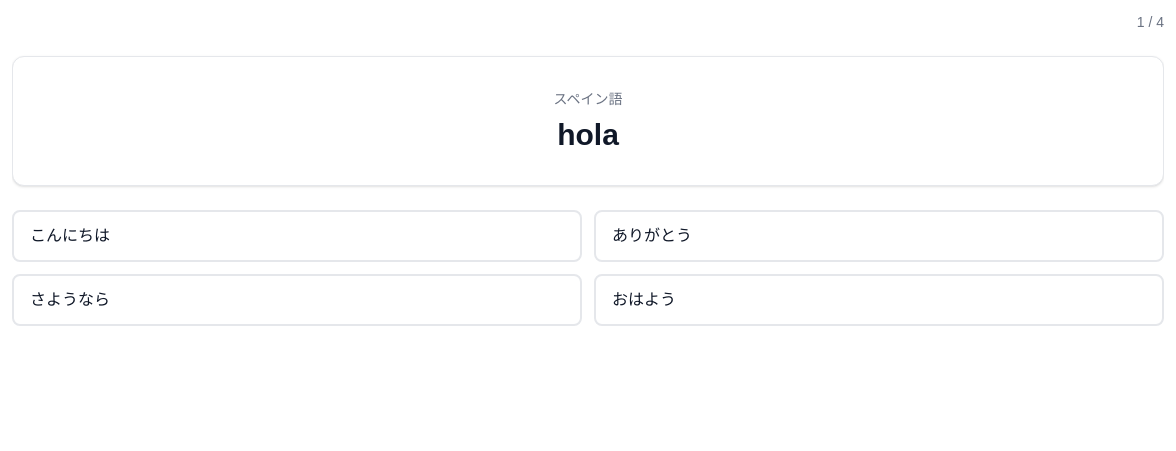
QuizCard › 正解選択で緑のフィードバックが表示されること
// 正解は「こんにちは」
Step 1. Click the button "こんにちは" → (70, 236), box [12,210,582,262]
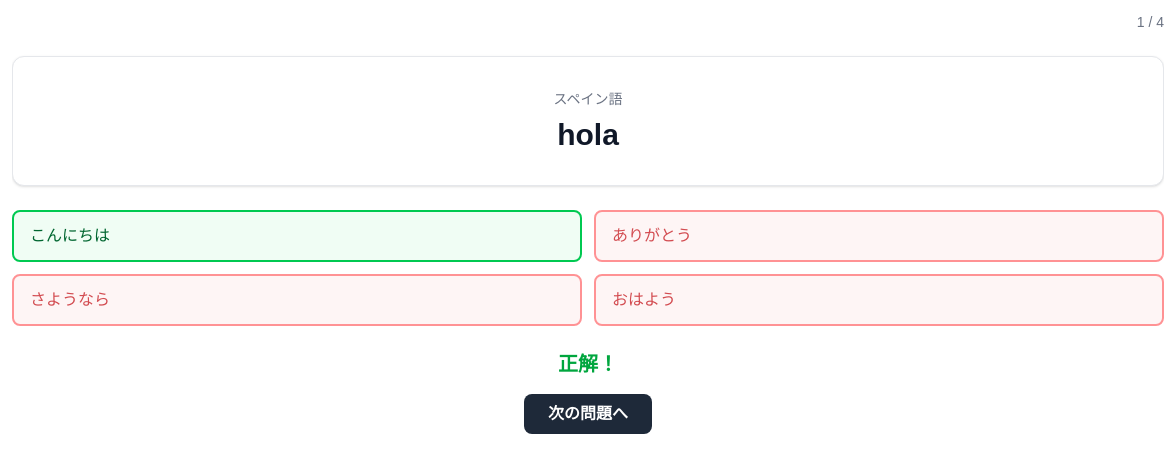
Expected: the text with test id "feedback" reads "正解！", [558,353,618,375]
